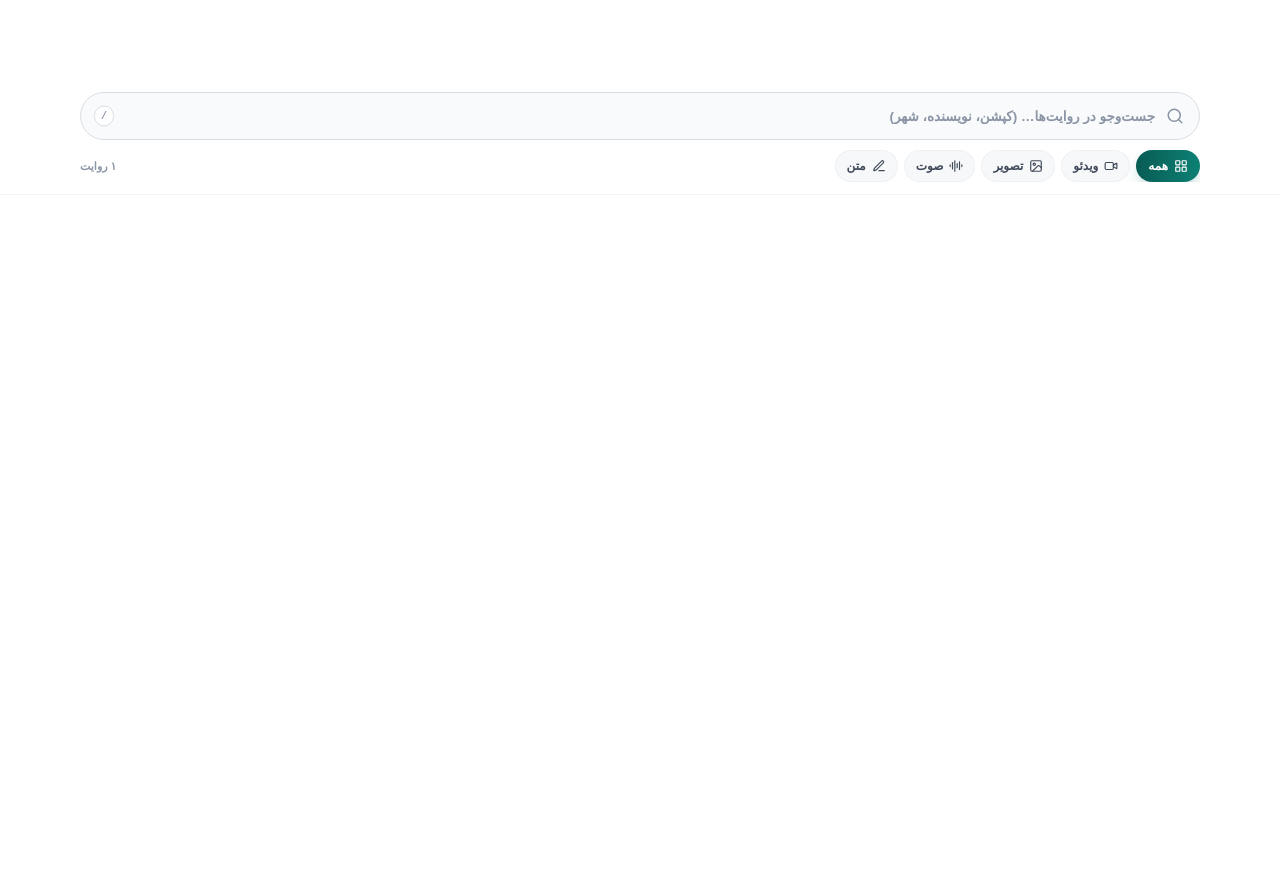
Test case: RevayatFeed › تعویض فیلتر، کارت‌ها و شمارش را از یک پاسخ display می‌گیرد؛ بدون اسکن شمار جداگانه
Click the button "متن". click: (866, 166)
box: [834,150,898,182]
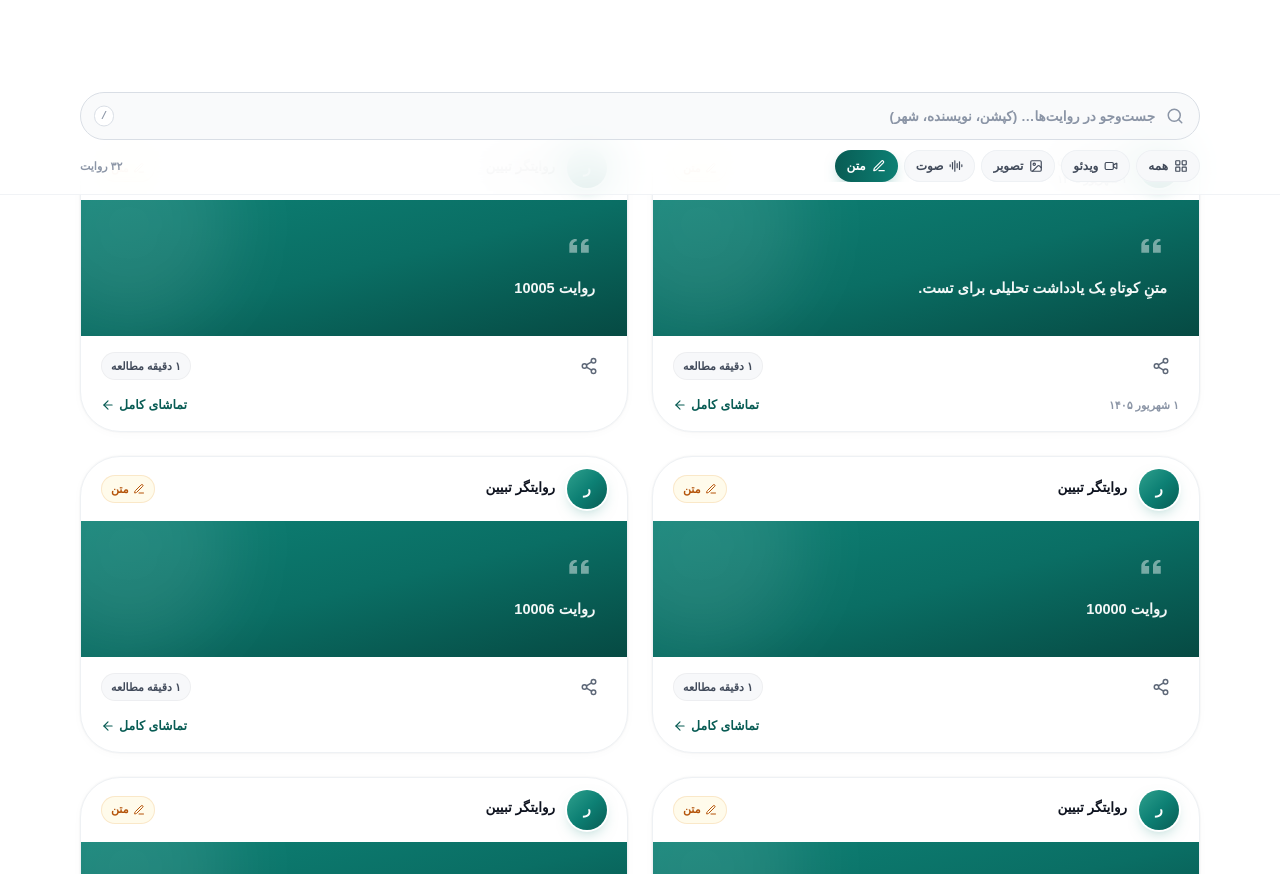
Now the text "۳۲ روایت" is shown, box [80,158,122,174]
